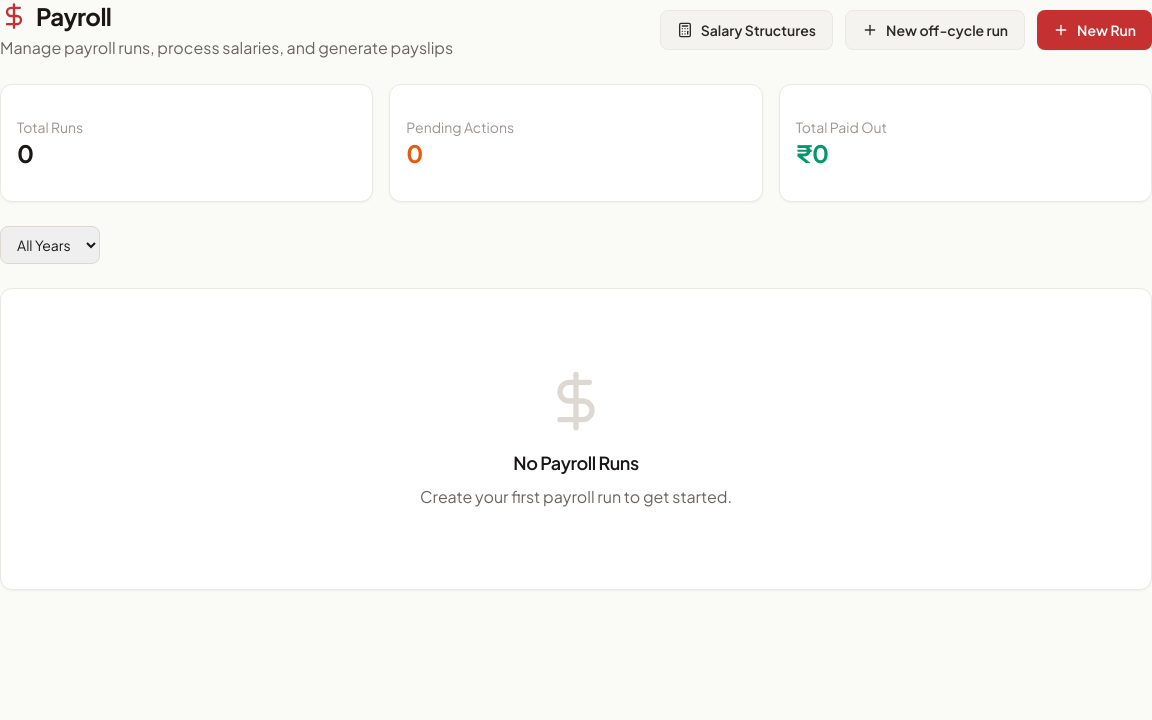
Test: PayrollPage › opens the off-cycle dialog for payroll admins
Click the button "New off-cycle run".
click(935, 30)  # box x1=845 y1=10 x2=1025 y2=50
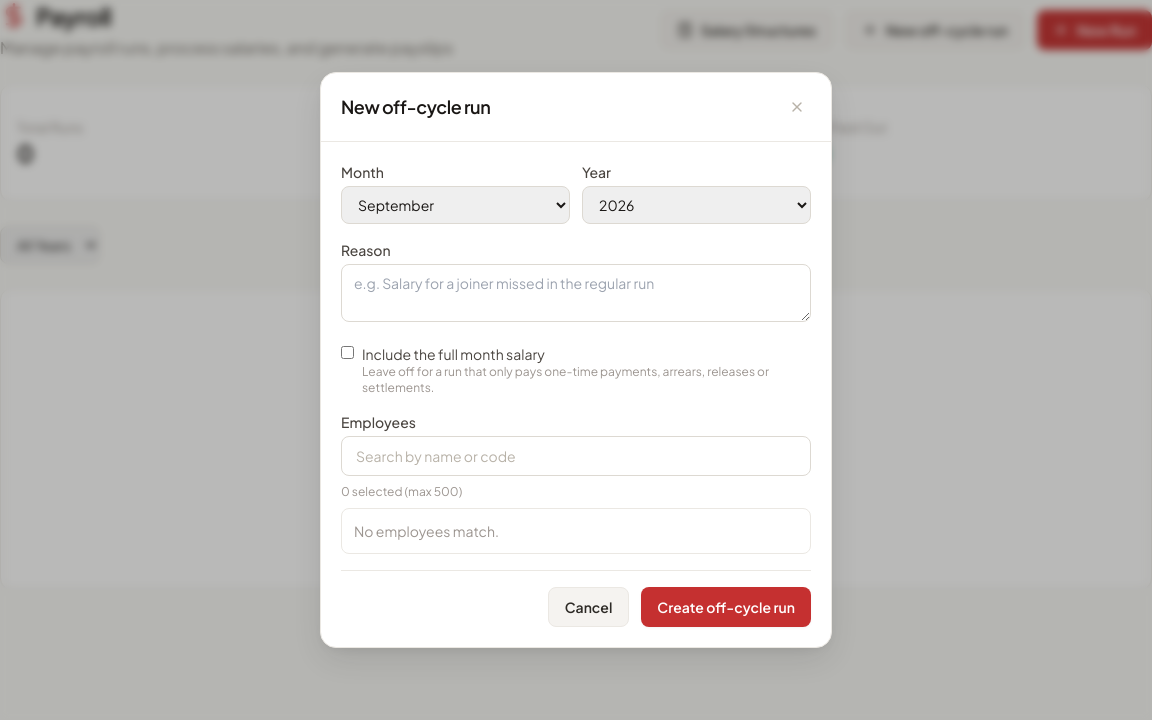
Now the button "Create off-cycle run" is shown, box x1=641 y1=587 x2=811 y2=627
